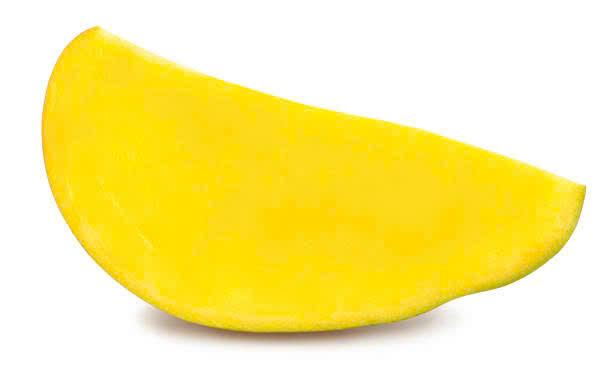mango: (35, 26, 600, 346)
